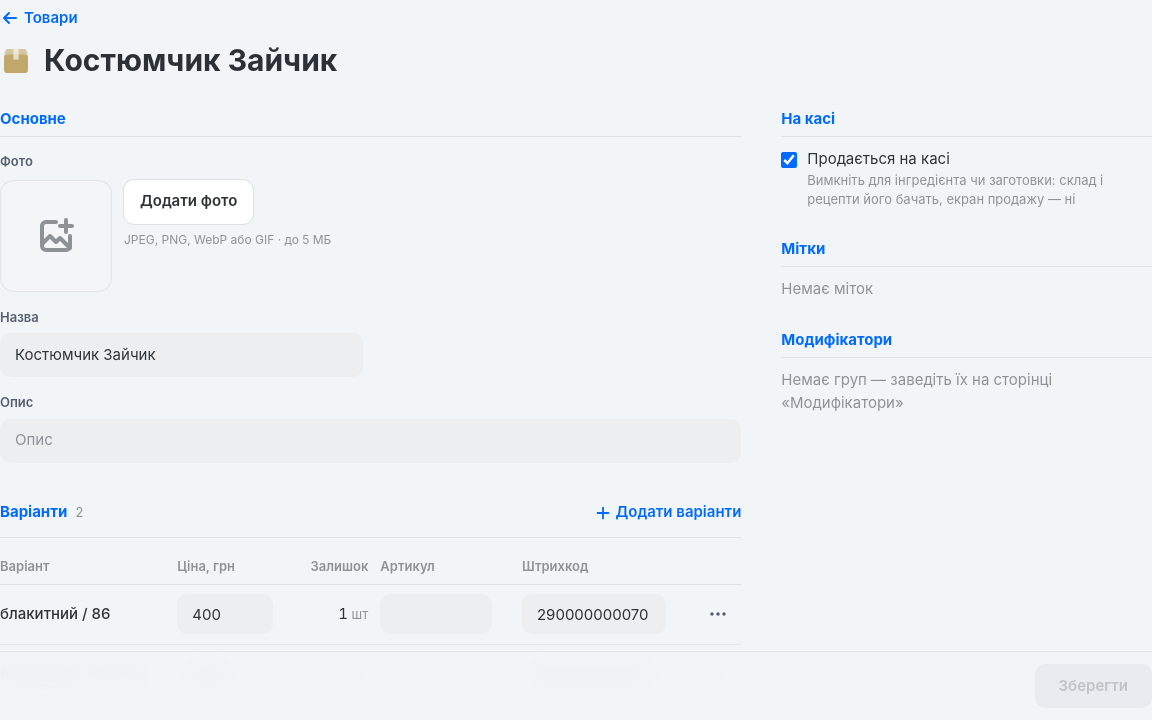
Test: adding sizes and colours to a card › opens the matrix in a dialog that hangs off the body
Expected: the button "Зберегти" is shown, [1034,664,1151,708]
What coordinates should you click on to do the following:
click the button "Додати варіанти"
I would click on:
 (668, 512)
Its box is [594,494,741,530].
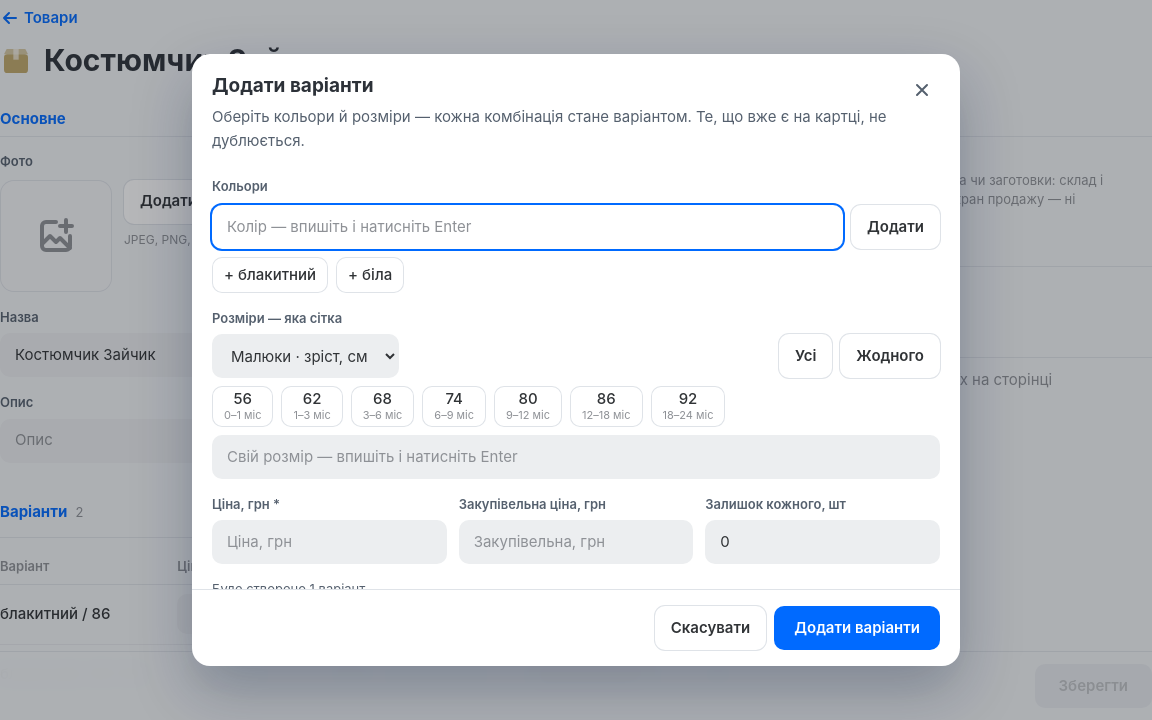
Now the element with test id "variant-matrix" is shown, box [212,177,940,590]
